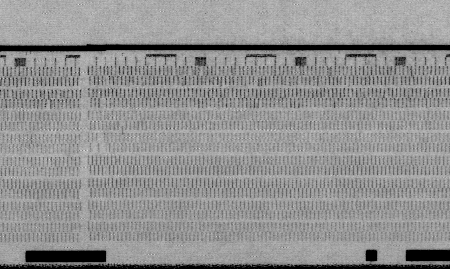Broken hole: (89, 131, 111, 153)
Oblique printing: (40, 98, 53, 110), (185, 66, 198, 77)
